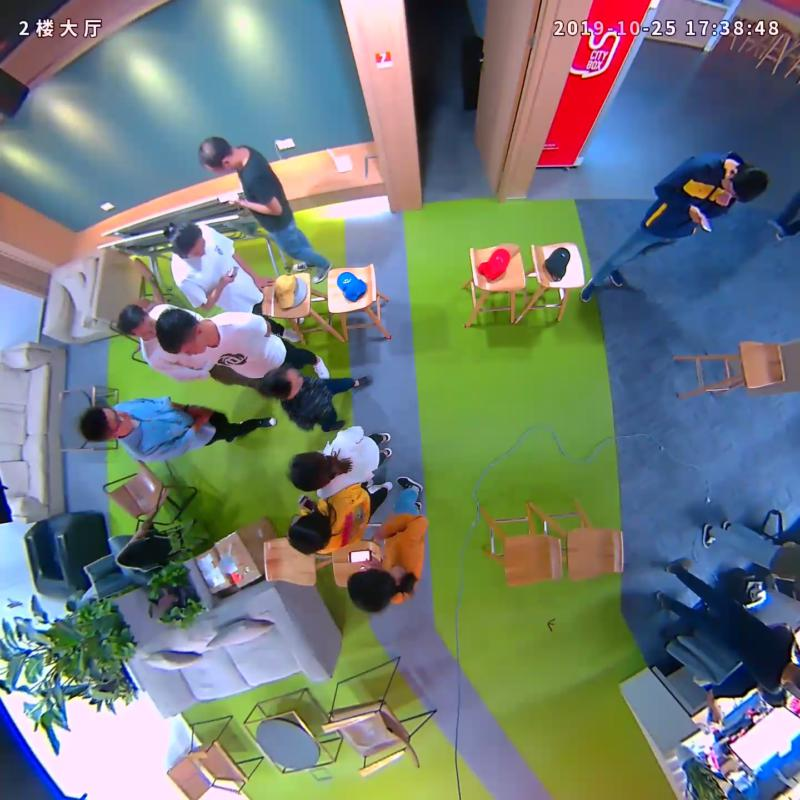head: (155, 307, 208, 356), (346, 568, 396, 613), (80, 405, 133, 443), (289, 511, 331, 556), (719, 165, 767, 203), (289, 450, 331, 491), (198, 135, 238, 175), (169, 222, 207, 261), (118, 303, 157, 340), (261, 365, 303, 398)
